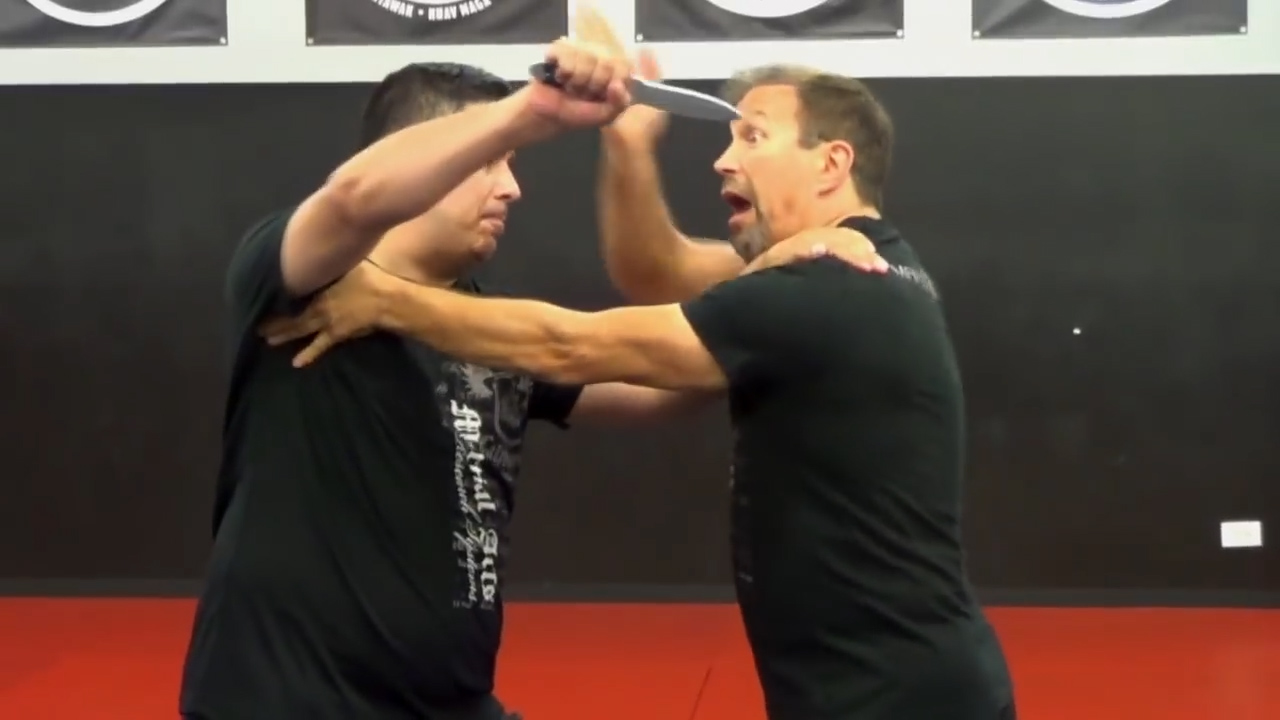knife: (521, 35, 750, 129)
